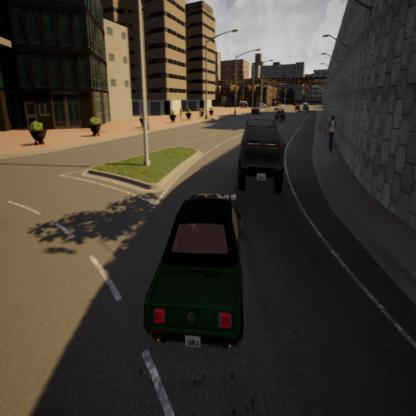Cars: (145, 183, 252, 357), (231, 114, 291, 200), (274, 108, 288, 124), (249, 108, 261, 123)
Pedestrian: (322, 115, 340, 154)
